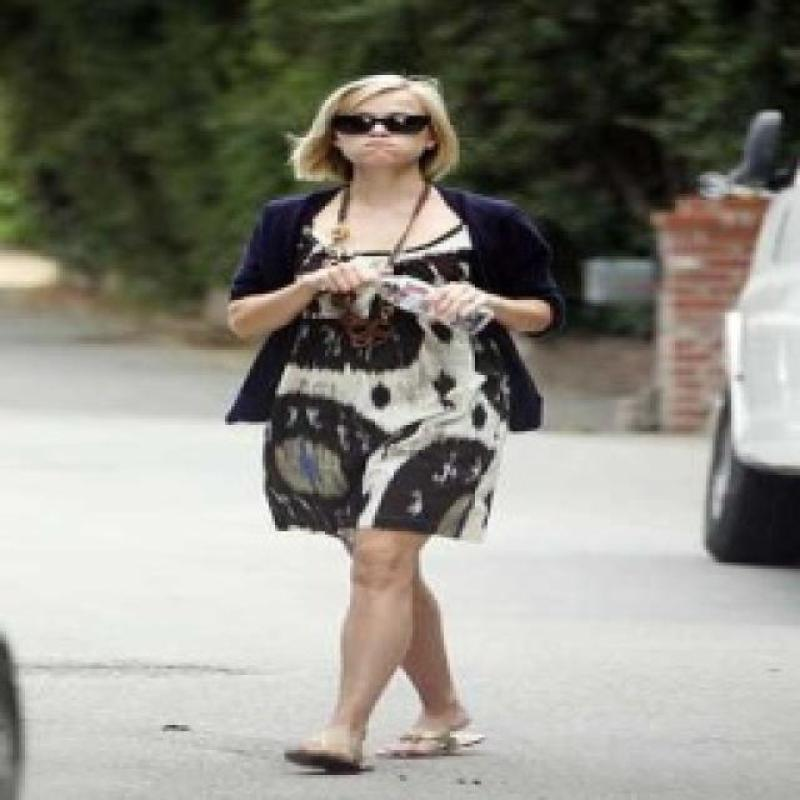botella: (378, 274, 494, 336)
